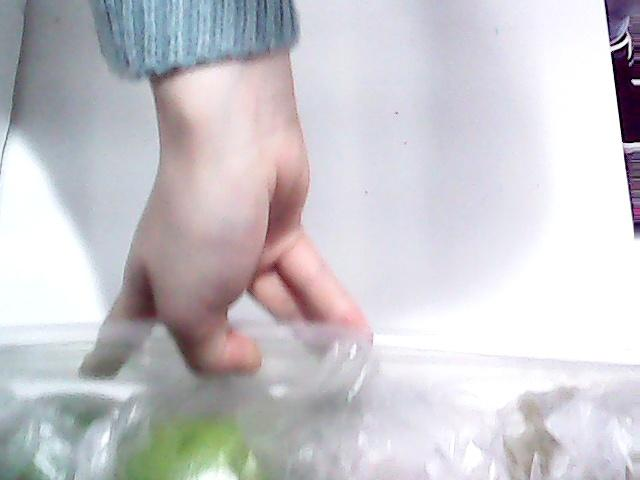apple: (96, 395, 275, 480)
